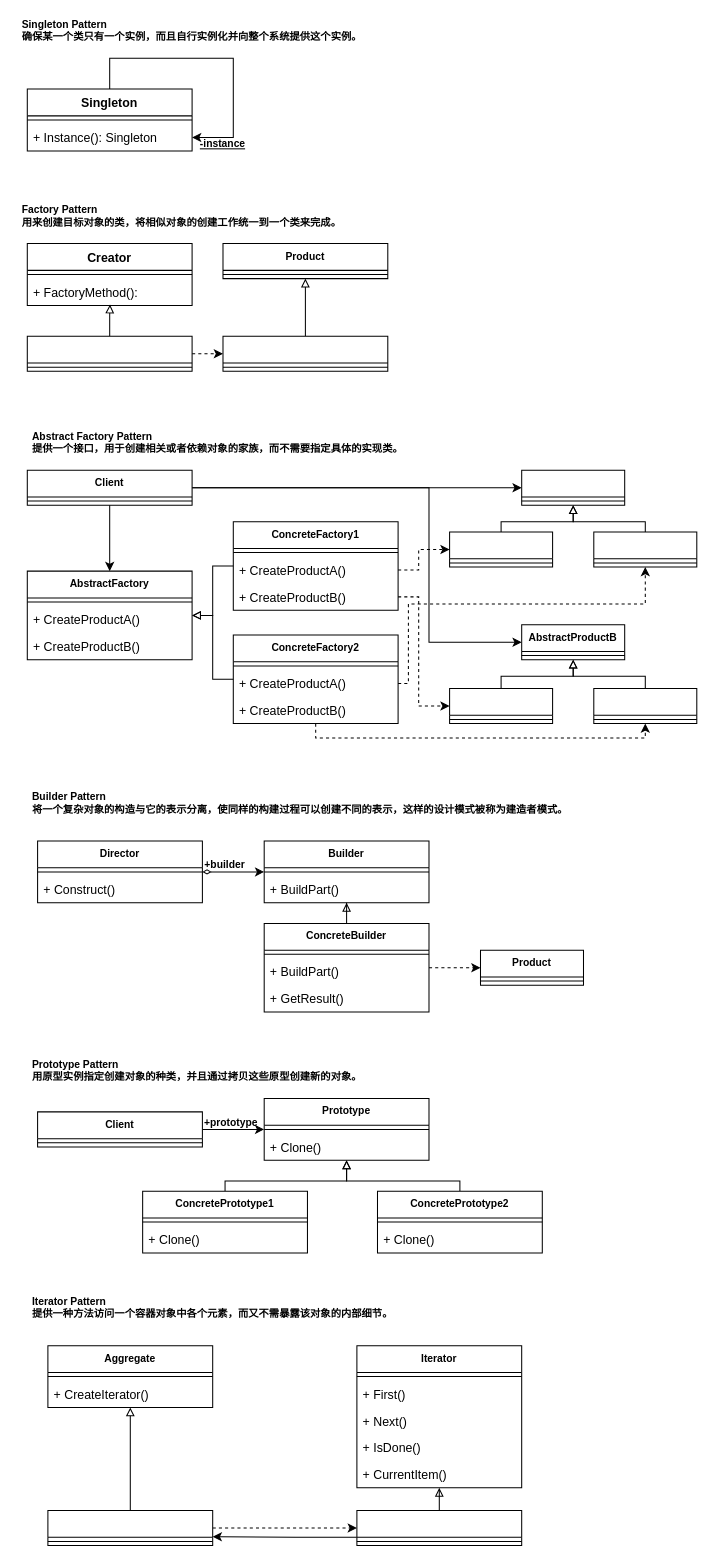
Image size: 714x1563. Some labels were removed from this diagram. Here are the shapes that lost their labels. From the top down, the centre of each, then its label:
At (109,353): "ConcreteCreator".
At (305,353): "ConcreteProduct".
At (573,487): "AbstractProductA".
At (501,549): "ProductA1".
At (645,549): "ProductA2".
At (501,706): "ProductB1".
At (645,706): "ProductB2".
At (130,1527): "ConcreteAggregate".
At (439,1527): "ConcreteIterator".
